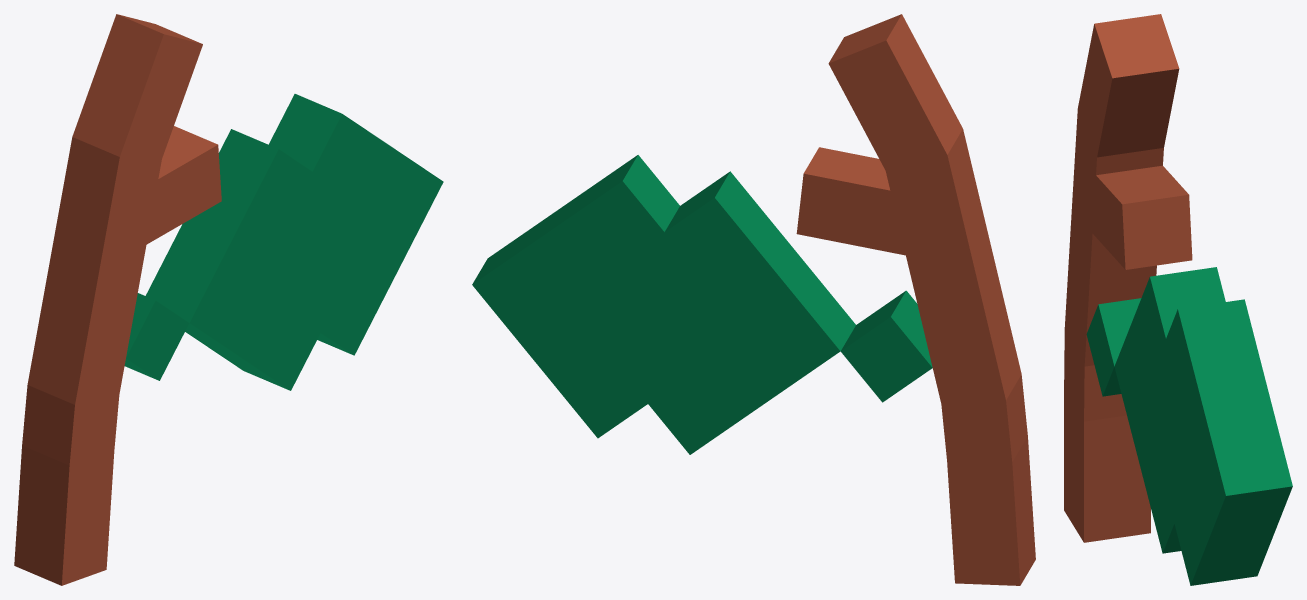
File: branche.gltf
3 renders of one model, left to right at view 1: azimuth 30°, elevation 25°; view 2: azimuth 150°, elevation 25°; view 3: azimuth 270°, elevation 25°, orthographic. The views are drawn at different scales.
Parts seen in each view (by area): view 1: leaf-Local, b4-Local, 2-Local, Branche-Local, 3-Local, b2-Local; view 2: leaf-Local, b4-Local, 2-Local, Branche-Local, 3-Local, b2-Local; view 3: leaf-Local, 2-Local, Branche-Local, 3-Local, b4-Local, b2-Local.
Boxes of the visible parts, bbox=[...] form: leaf-Local: bbox=[124, 94, 443, 390]; b4-Local: bbox=[27, 137, 163, 404]; 2-Local: bbox=[72, 14, 202, 166]; Branche-Local: bbox=[14, 445, 114, 585]; 3-Local: bbox=[128, 126, 221, 252]; b2-Local: bbox=[22, 385, 119, 465]; leaf-Local: bbox=[472, 155, 932, 454]; b4-Local: bbox=[884, 129, 1021, 407]; 2-Local: bbox=[828, 14, 962, 176]; Branche-Local: bbox=[947, 436, 1035, 585]; 3-Local: bbox=[796, 147, 905, 255]; b2-Local: bbox=[941, 374, 1027, 462]; leaf-Local: bbox=[1086, 267, 1292, 585]; 2-Local: bbox=[1078, 14, 1179, 162]; Branche-Local: bbox=[1064, 388, 1150, 542]; 3-Local: bbox=[1083, 161, 1192, 269]; b4-Local: bbox=[1064, 108, 1163, 368]; b2-Local: bbox=[1064, 328, 1126, 421].
Bounding box in the file's own units: 8.36 × 8.73 × 3.28.
6 materials, 6 textured.
